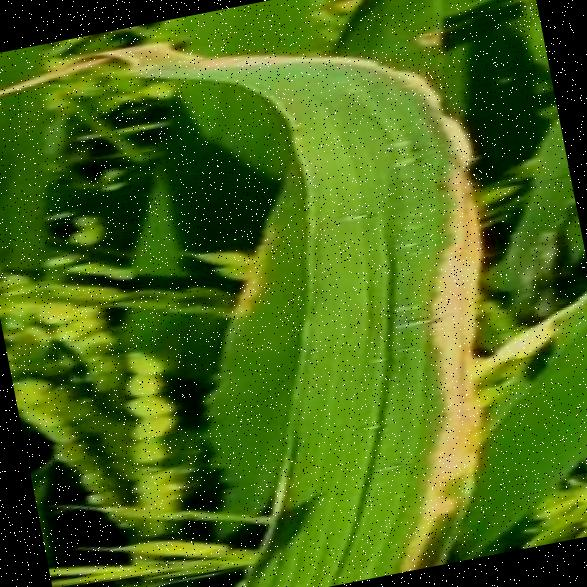Bacteria_Leaf_Blight: (247, 60, 524, 545)
